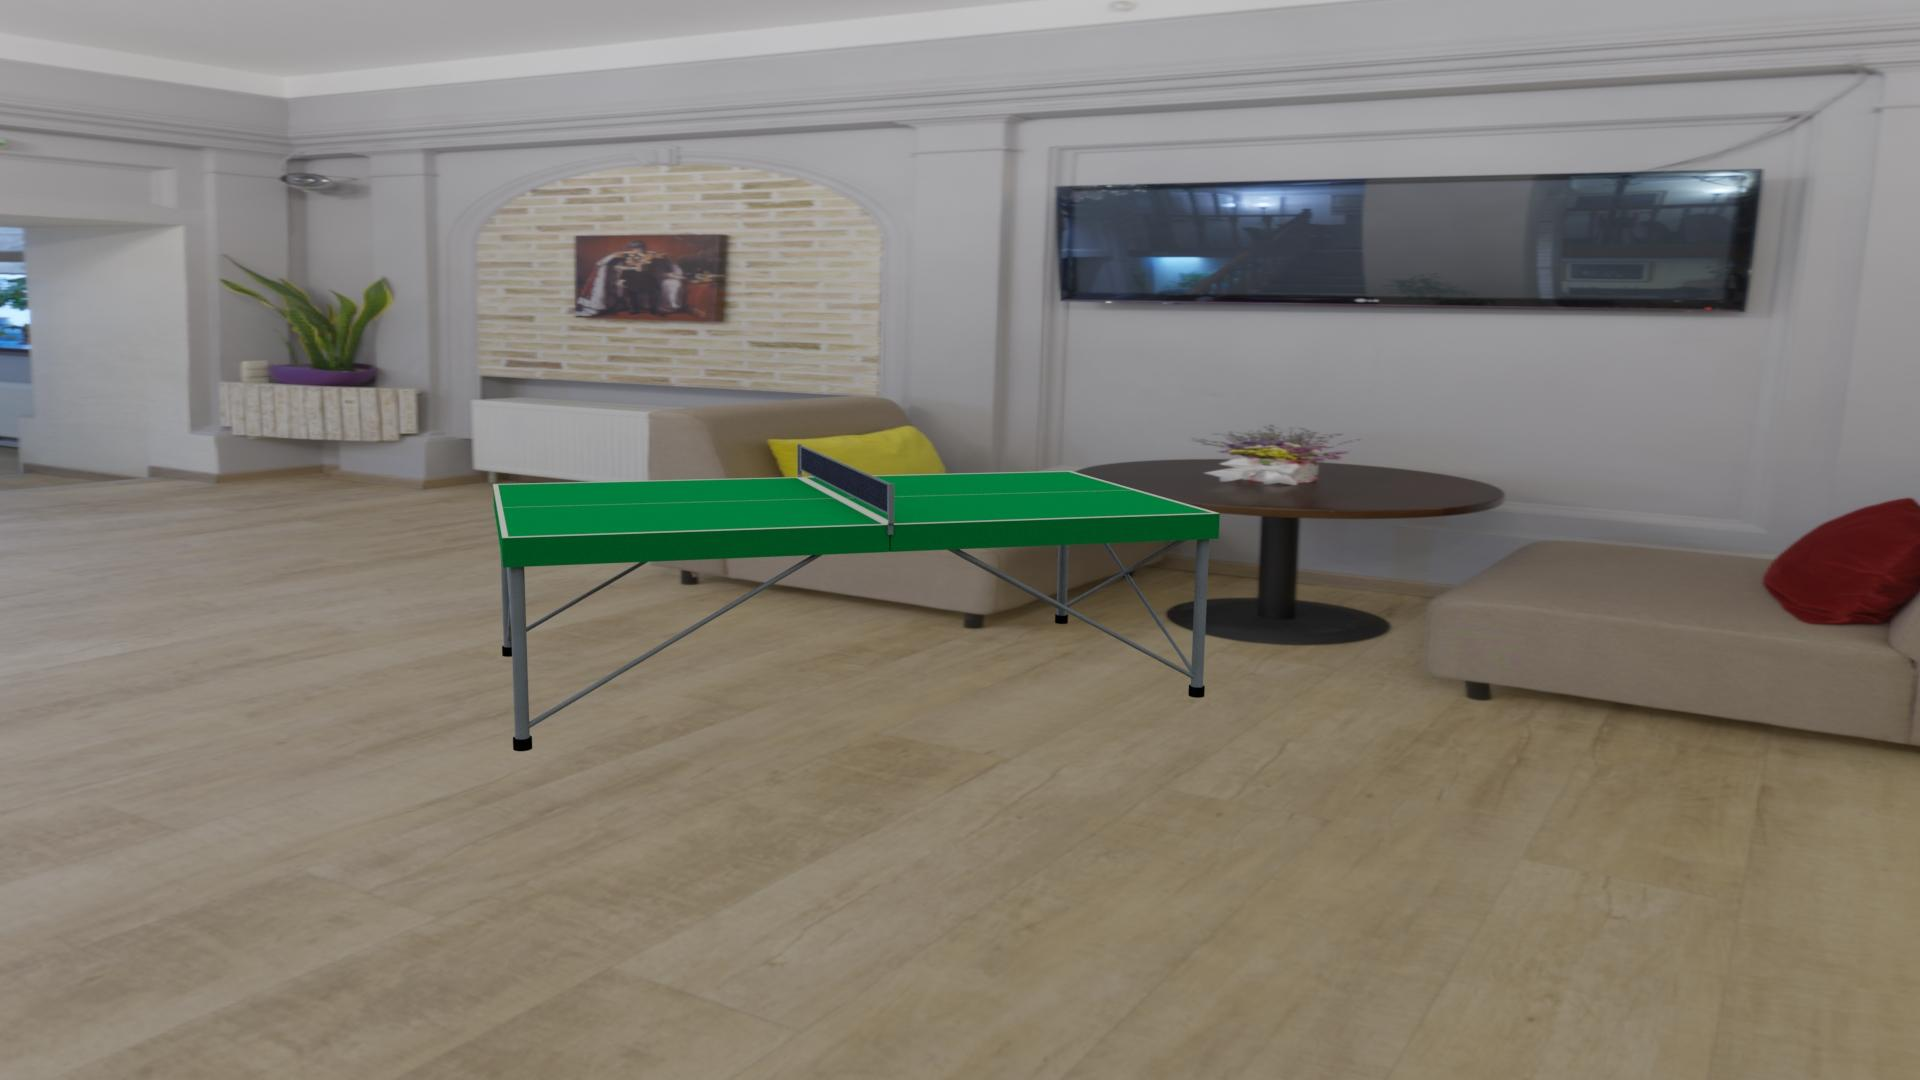table: (498, 472, 1213, 537)
